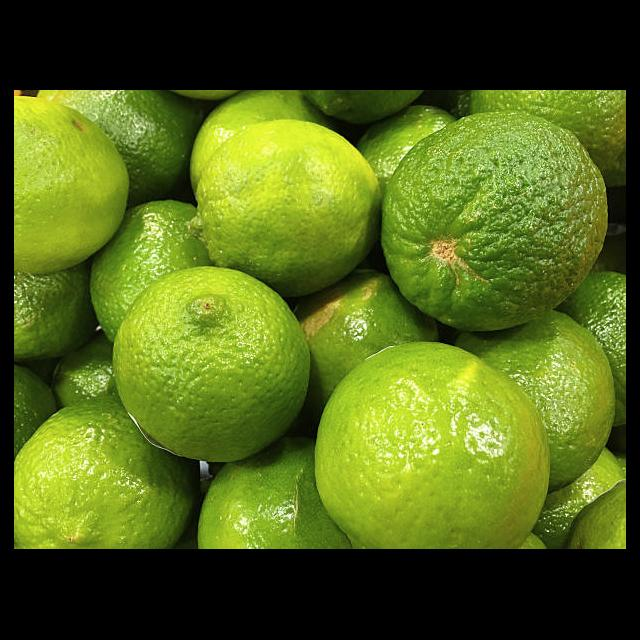lime: (381, 114, 608, 334), (314, 342, 550, 550), (112, 268, 313, 464), (14, 96, 129, 276)
